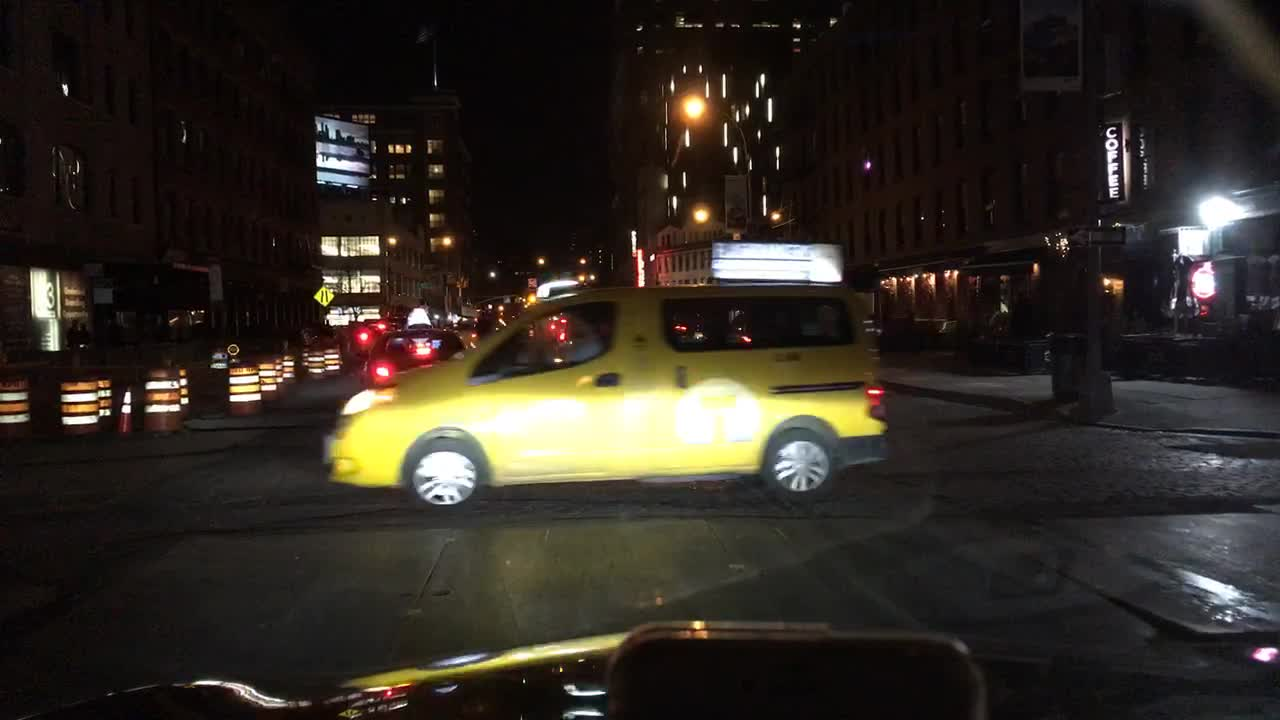car: (317, 278, 892, 512), (362, 303, 464, 387), (354, 320, 380, 353), (478, 306, 511, 331)
person: (64, 318, 81, 341), (83, 324, 91, 343)
traffic light: (456, 268, 463, 290), (469, 273, 470, 290)
traffic sign: (1065, 225, 1122, 249), (313, 285, 336, 308), (525, 275, 537, 292)
